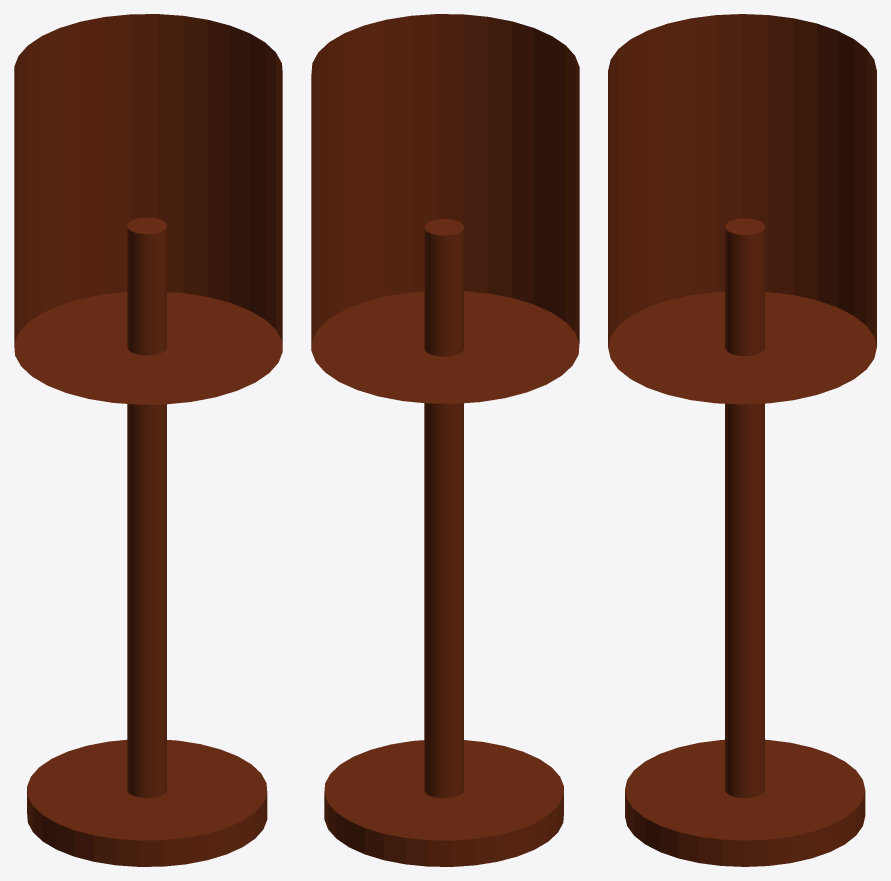
Rendered from luz.fbx.
3 views of the same model, side by side, from view 1: azimuth 30°, elevation 25°; view 2: azimuth 150°, elevation 25°; view 3: azimuth 270°, elevation 25° (orthographic).
Visible parts, largest first — view 1: Cylinder; view 2: Cylinder; view 3: Cylinder.
Boxes of the visible parts, x1=… form: Cylinder: x1=14, y1=14, x2=282, y2=866; Cylinder: x1=311, y1=14, x2=579, y2=866; Cylinder: x1=608, y1=14, x2=876, y2=866.
Size of the model in its own units: 224 by 684 by 224.
